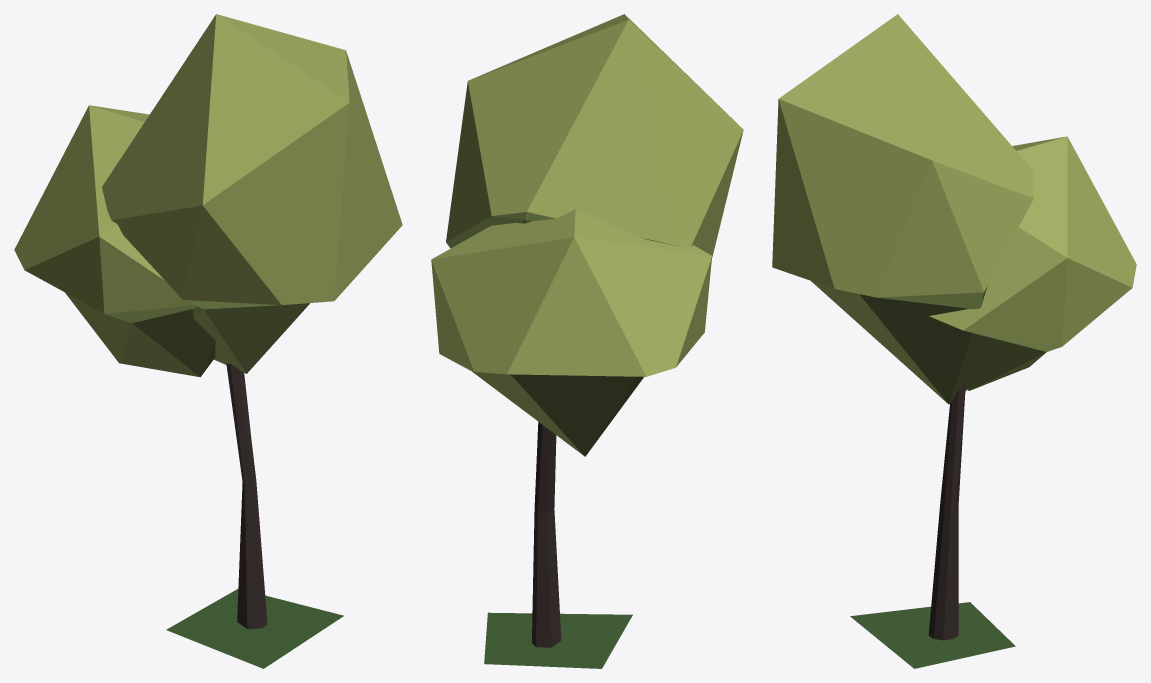
The model's file is SM_Tree_02.fbx.
3 views of the same model, side by side, from view 1: azimuth 30°, elevation 25°; view 2: azimuth 150°, elevation 25°; view 3: azimuth 270°, elevation 25° (orthographic). The views are drawn at different scales.
Visible parts, largest first — view 1: SM_Tree_02; view 2: SM_Tree_02; view 3: SM_Tree_02.
Boxes of the visible parts, box(x1,y1,x2,y2) form: SM_Tree_02: box(14, 14, 402, 668); SM_Tree_02: box(431, 14, 743, 668); SM_Tree_02: box(772, 14, 1136, 668).
Size of the model in its own units: 416 by 917 by 506.
1 material, 1 textured.
